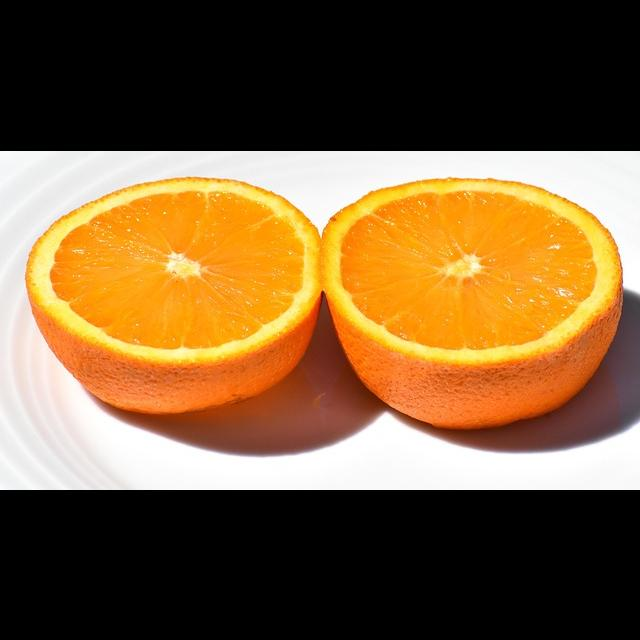orange: (16, 153, 344, 444), (318, 155, 636, 439)
